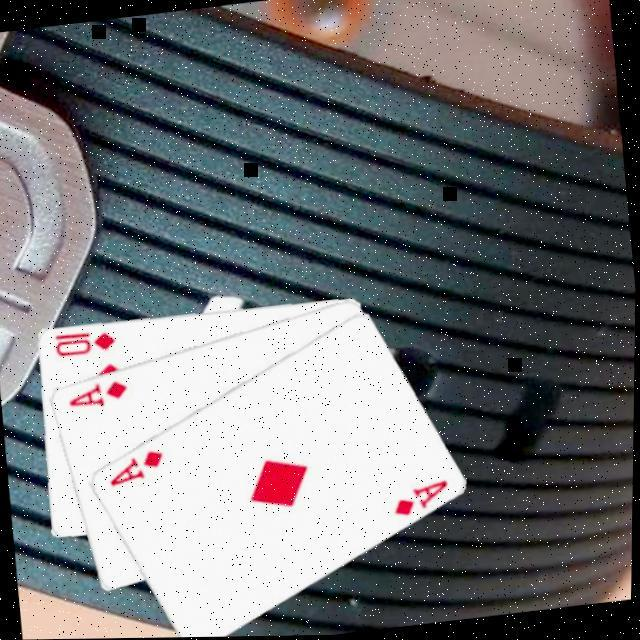10D: (49, 326, 118, 363)
AD: (103, 446, 170, 492), (387, 479, 454, 524), (63, 377, 132, 415)
